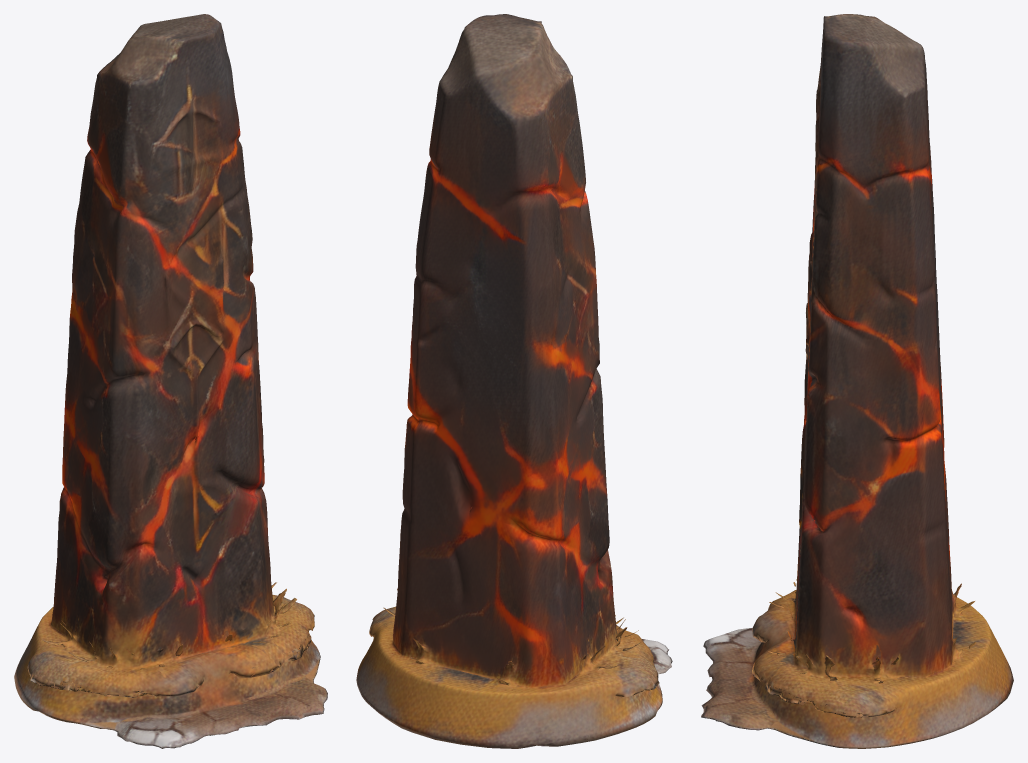
The model's file is ks1-rodin.glb.
The picture shows the model from 3 angles, left to right: view 1: azimuth 30°, elevation 25°; view 2: azimuth 150°, elevation 25°; view 3: azimuth 270°, elevation 25°; orthographic projection.
Parts seen in each view (by area): view 1: model; view 2: model; view 3: model.
Part boxes in pixels (x1,y1,x2,y2): model: (14,14,327,748); model: (356,14,672,748); model: (701,14,1013,748).
Bounding box in the file's own units: 0.8584 × 1.9 × 0.819.
1 material, 1 textured.
